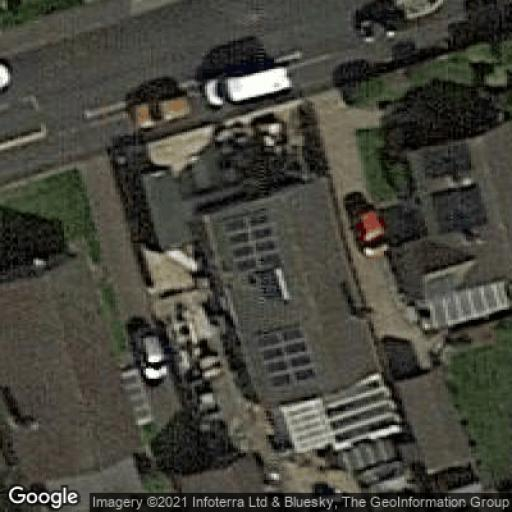solar-panel: (220, 210, 285, 274), (256, 322, 317, 385)
